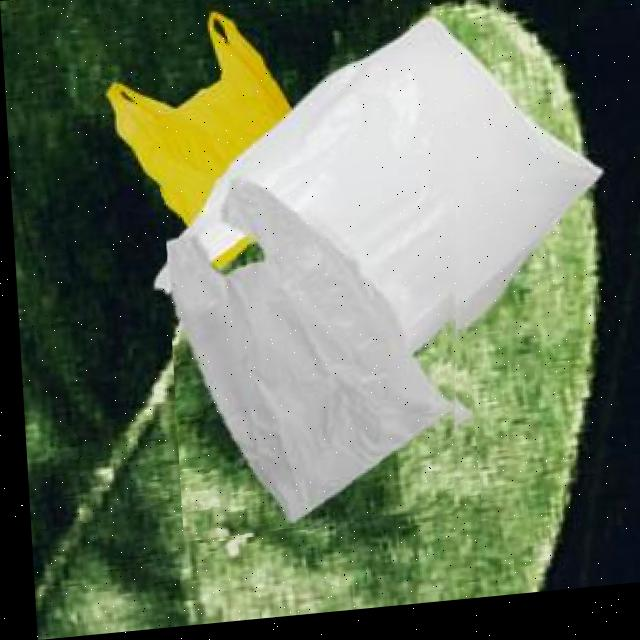plasticcover: (160, 159, 472, 545)
